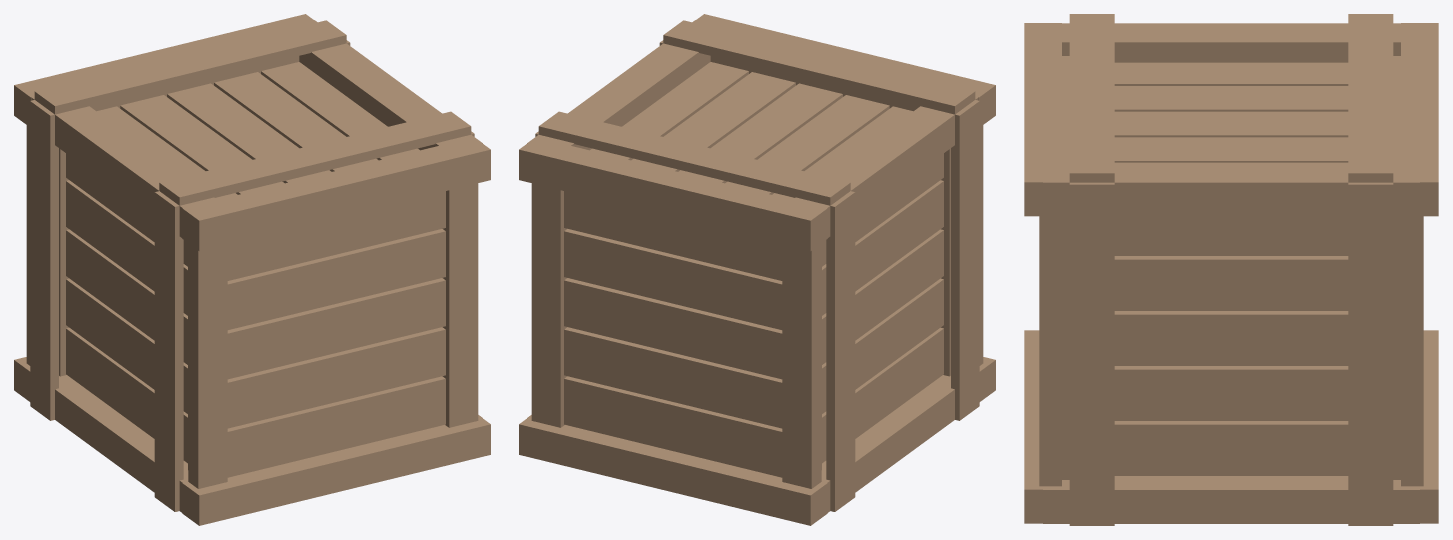
3 views of the same model, side by side, from view 1: azimuth 30°, elevation 25°; view 2: azimuth 150°, elevation 25°; view 3: azimuth 270°, elevation 25° (orthographic). The views are drawn at different scales.
Visible parts, largest first — view 1: Body; view 2: Body; view 3: Body.
Part boxes in pixels (bbox=[...]): Body: bbox=[14, 14, 490, 525]; Body: bbox=[519, 14, 995, 525]; Body: bbox=[1024, 14, 1438, 525].
Bounding box in the file's own units: 51.4 × 51.37 × 55.
